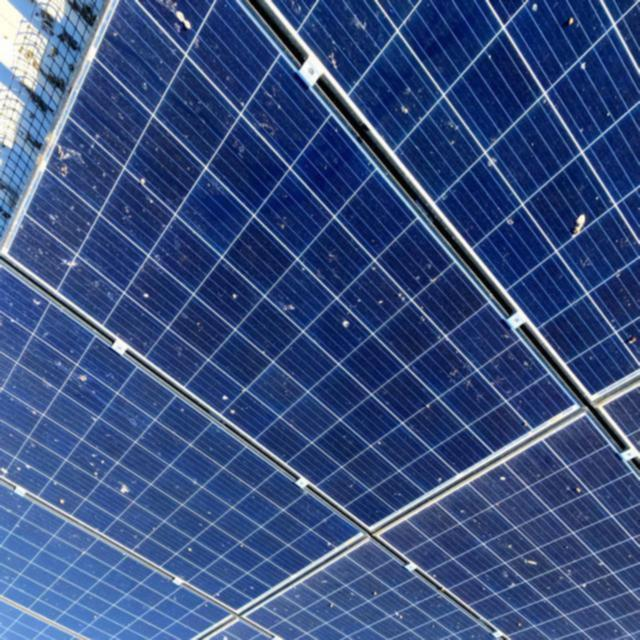soiled: (4, 7, 637, 638)
